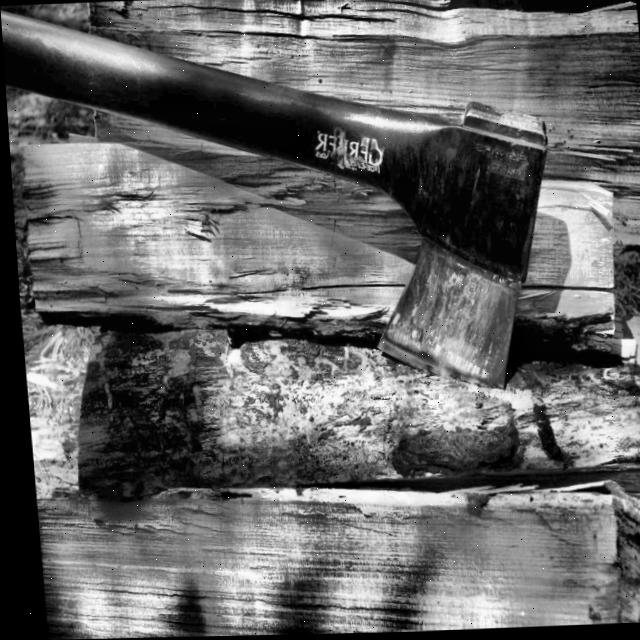pisau: (1, 8, 553, 391)
